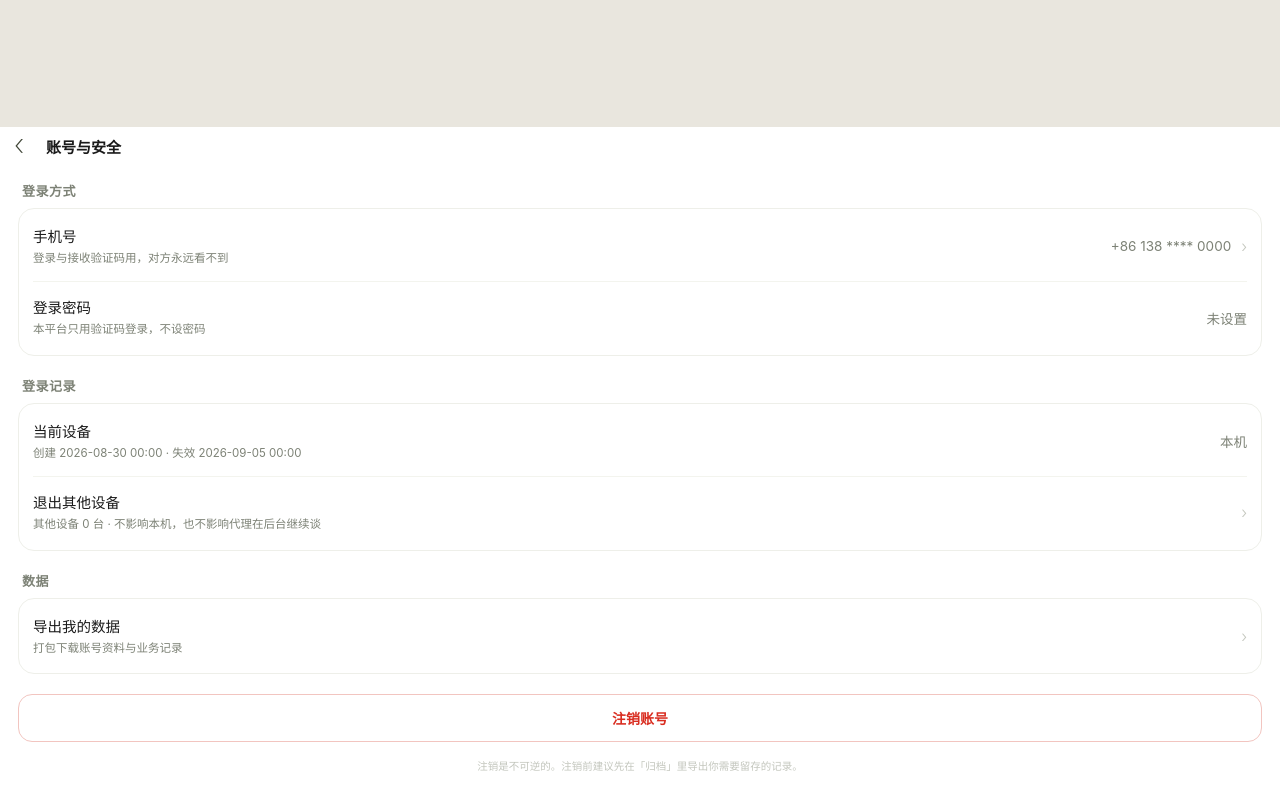
Test: 账号安全 · Backend 数据导出与注销 › 注销遇 export_in_progress：保留确认层、不本地登出，提示等待导出
(page scrolled)
Click the button "注销账号".
click(640, 718)  # box [18,694,1262,742]
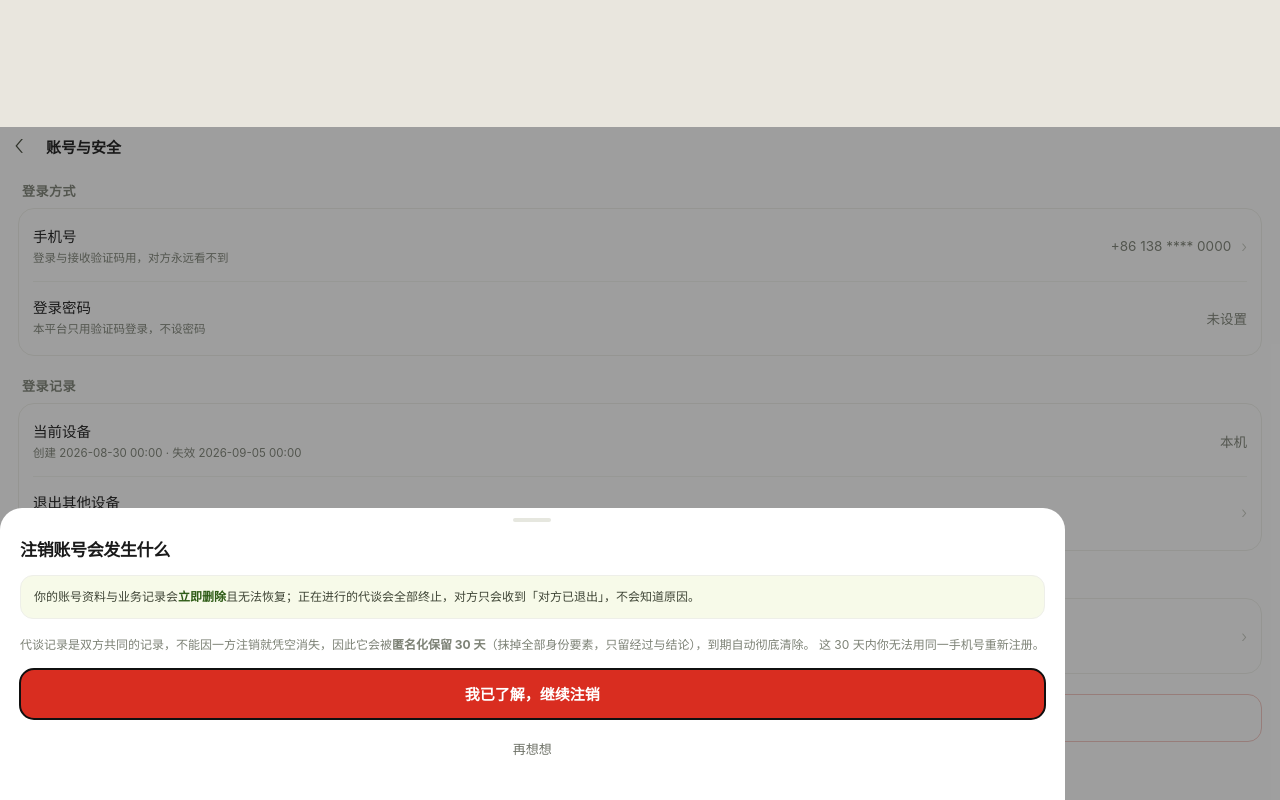
Click the button "我已了解，继续注销".
click(532, 694)  # box [20,669,1045,719]
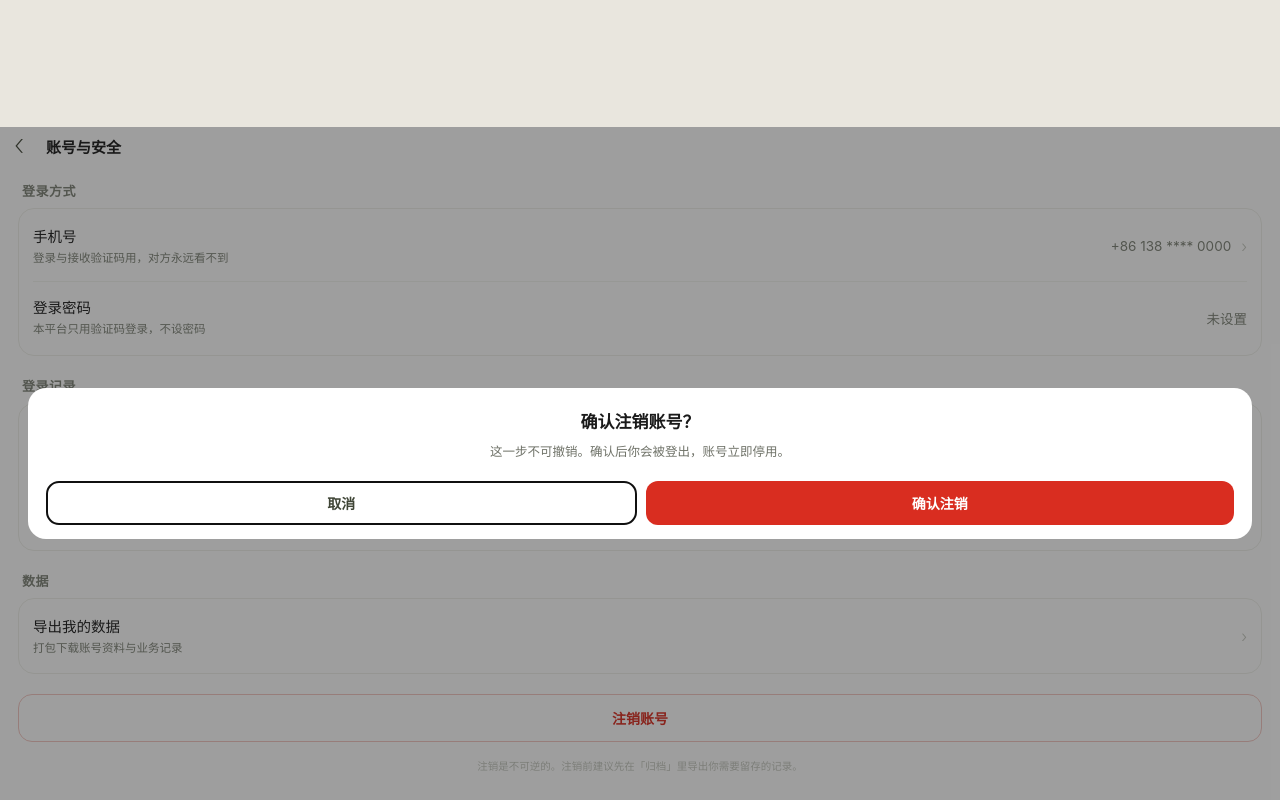
Click the button "确认注销".
click(940, 502)  # box [646,480,1234,524]
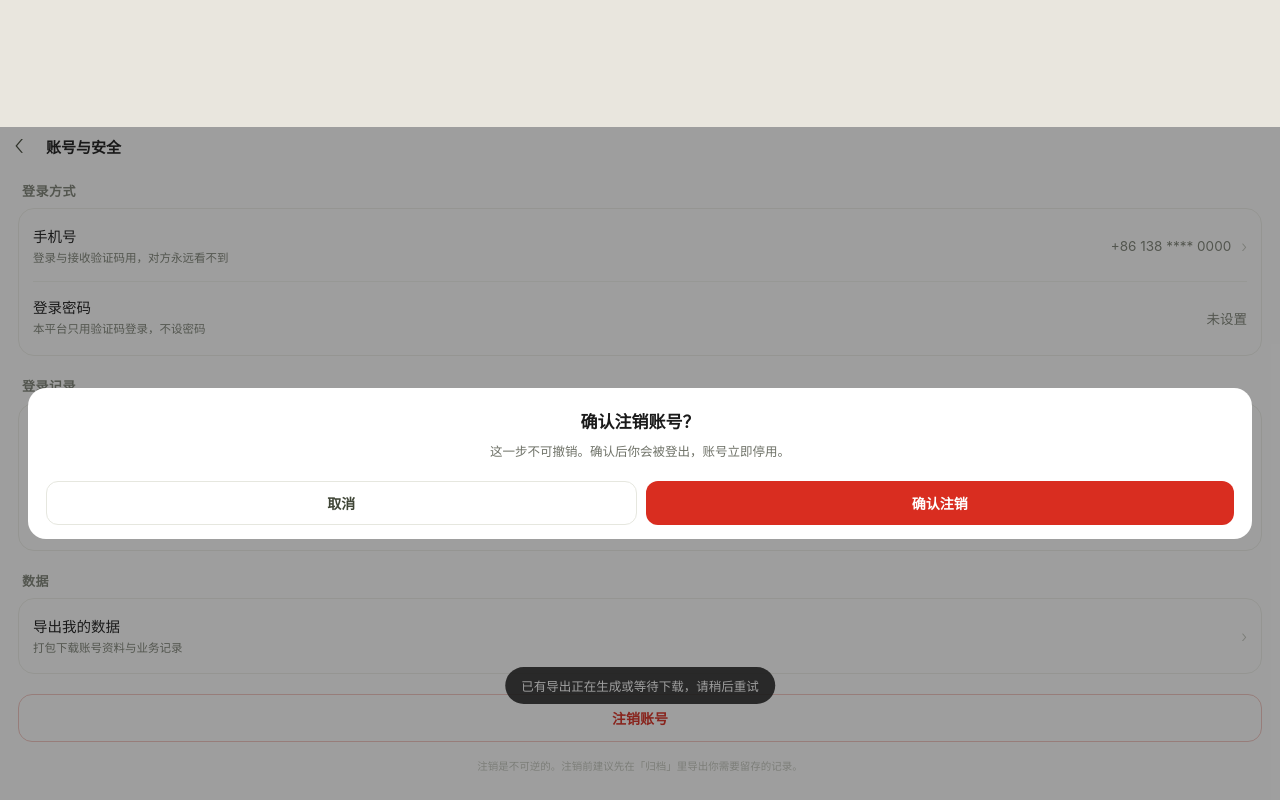
Result: the button "确认注销" is shown at [646,480,1234,524]
Result: the text "已有导出正在生成或等待下载，请稍后重试" is shown at [505,667,775,704]
